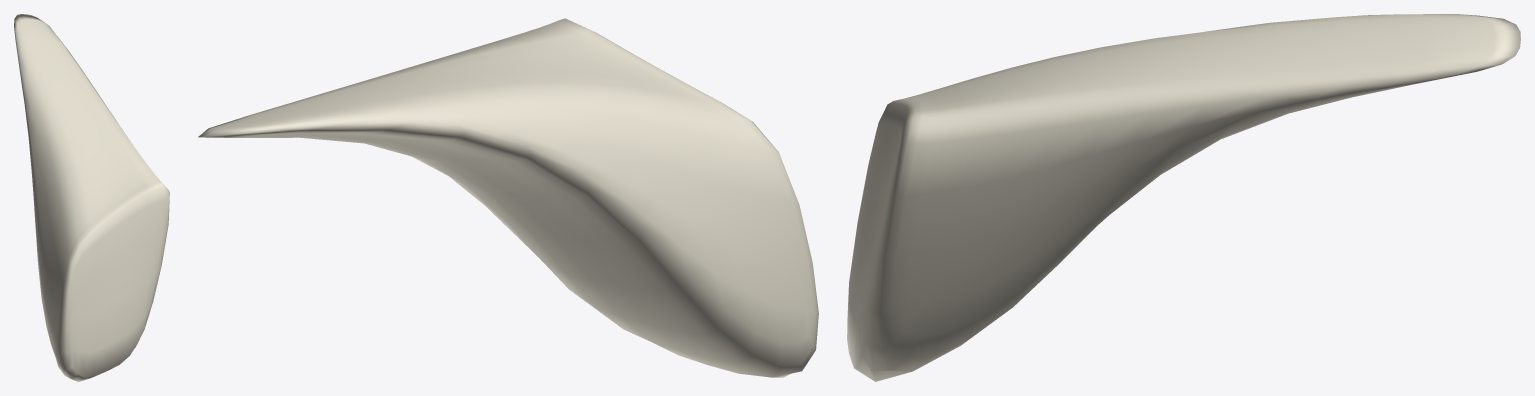
3 views of the same model, side by side, from view 1: azimuth 30°, elevation 25°; view 2: azimuth 150°, elevation 25°; view 3: azimuth 270°, elevation 25° (orthographic). The views are drawn at different scales.
Parts seen in each view (by area): view 1: ZA_eb02e9a87bbc7f6c; view 2: ZA_eb02e9a87bbc7f6c; view 3: ZA_eb02e9a87bbc7f6c.
Boxes of the visible parts, bbox=[...] form: ZA_eb02e9a87bbc7f6c: bbox=[14, 14, 169, 381]; ZA_eb02e9a87bbc7f6c: bbox=[198, 18, 818, 377]; ZA_eb02e9a87bbc7f6c: bbox=[847, 14, 1520, 381].
Bounding box in the file's own units: 0.0117 × 0.0166 × 0.0237.
